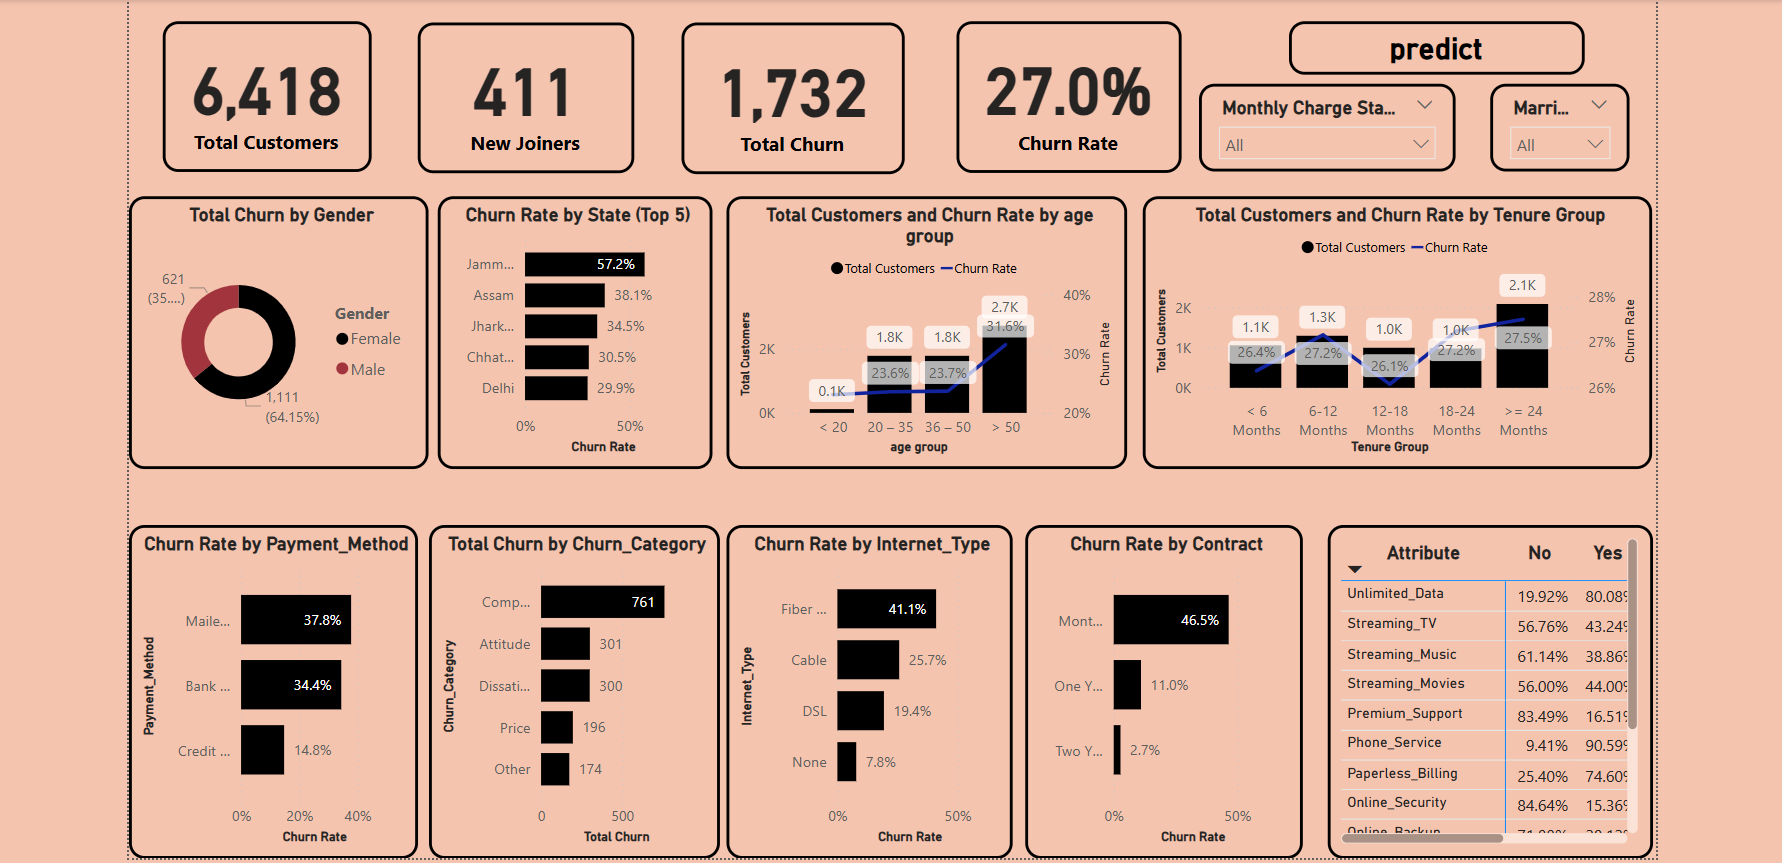

Layout of this report page (visuals, bound fields, positions):
{"tool":"powerbi","page":{"name":"summary","canvas":[1280,720],"ordinal":0},"visuals":[{"type":"card","fields":{"Values":["tbl_measures.Total Customers"]},"box":[28.8,17.5,175,126.2],"z":0},{"type":"card","fields":{"Values":["tbl_measures.New Joiners"]},"box":[242.5,18.8,181.2,126.2],"z":1000},{"type":"card","fields":{"Values":["tbl_measures.Total Churn"]},"box":[463.8,18.8,187.5,127.5],"z":2000},{"type":"card","fields":{"Values":["tbl_measures.Churn Rate"]},"box":[693.8,17.5,188.8,127.5],"z":3000},{"type":"donutChart","fields":{"Category":["prod_churn.Gender"],"Y":["tbl_measures.Total Churn"]},"box":[0,165,251.2,228.8],"z":4000},{"type":"lineStackedColumnComboChart","fields":{"Category":["mapping_agrgrp.age group"],"Y":["tbl_measures.Total Customers"],"Y2":["tbl_measures.Churn Rate"]},"box":[501.2,165,336.2,228.8],"z":5000},{"type":"clusteredBarChart","fields":{"Category":["prod_churn.Payment_Method"],"Y":["tbl_measures.Churn Rate"]},"box":[0,440,242.5,280],"z":6000},{"type":"clusteredBarChart","fields":{"Category":["prod_churn.Contract"],"Y":["tbl_measures.Churn Rate"]},"box":[751.2,440,232.5,280],"z":7000},{"type":"lineStackedColumnComboChart","fields":{"Y":["tbl_measures.Total Customers"],"Y2":["tbl_measures.Churn Rate"],"Category":["mapping_TenureGrp.Tenure Group"]},"box":[850,165,427.5,228.8],"z":8000},{"type":"clusteredBarChart","title":"Churn Rate by State (Top 5)","fields":{"Y":["tbl_measures.Churn Rate"],"Category":["prod_churn.State"]},"box":[258.8,165,230,228.8],"z":9000},{"type":"clusteredBarChart","fields":{"Y":["tbl_measures.Total Churn"],"Category":["prod_churn.Churn_Category"]},"box":[251.2,440,243.8,280],"z":10000},{"type":"clusteredBarChart","fields":{"Y":["tbl_measures.Churn Rate"],"Category":["prod_churn.Internet_Type"]},"box":[501.2,440,240,280],"z":11000},{"type":"pivotTable","fields":{"Rows":["prod_churn (2).Attribute"],"Columns":["prod_churn (2).Value"],"Values":["Sum(prod_churn (2).Churn status)"]},"box":[1005,440,272.5,280],"z":12000},{"type":"slicer","fields":{"Values":["prod_churn.Monthly Charge Status"]},"box":[897.4,70.7,215,73.6],"z":13000},{"type":"slicer","fields":{"Values":["prod_churn.Married"]},"box":[1141.2,70.7,116.9,73.6],"z":14000},{"type":"shape","title":"summary","box":[972.4,17.3,248.2,44.7],"z":15000}]}

Visuals, with their boxes in screenshot pixels (x1, y1, x2, y2):
card - tbl_measures.Total Customers: bbox(164, 21, 371, 170)
card - tbl_measures.New Joiners: bbox(417, 22, 631, 171)
card - tbl_measures.Total Churn: bbox(678, 22, 900, 173)
card - tbl_measures.Churn Rate: bbox(950, 21, 1173, 171)
donutChart - prod_churn.Gender x tbl_measures.Total Churn: bbox(130, 195, 427, 466)
lineStackedColumnComboChart - mapping_agrgrp.age group x tbl_measures.Total Customers: bbox(722, 195, 1120, 466)
clusteredBarChart - prod_churn.Payment_Method x tbl_measures.Churn Rate: bbox(130, 520, 417, 851)
clusteredBarChart - prod_churn.Contract x tbl_measures.Churn Rate: bbox(1018, 520, 1293, 851)
lineStackedColumnComboChart - tbl_measures.Total Customers x tbl_measures.Churn Rate: bbox(1135, 195, 1640, 466)
"Churn Rate by State (Top 5)" clusteredBarChart: bbox(436, 195, 708, 466)
clusteredBarChart - tbl_measures.Total Churn x prod_churn.Churn_Category: bbox(427, 520, 715, 851)
clusteredBarChart - tbl_measures.Churn Rate x prod_churn.Internet_Type: bbox(722, 520, 1006, 851)
pivotTable - prod_churn (2).Attribute x prod_churn (2).Value: bbox(1318, 520, 1640, 851)
slicer - prod_churn.Monthly Charge Status: bbox(1191, 84, 1445, 171)
slicer - prod_churn.Married: bbox(1479, 84, 1617, 171)
"summary" shape: bbox(1280, 20, 1573, 73)
